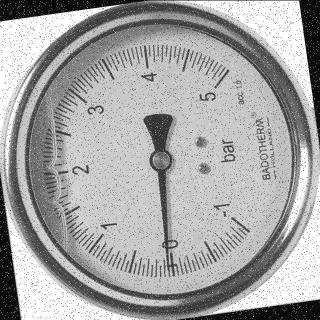gauge: (0, 0, 320, 320), (212, 193, 252, 241), (193, 66, 238, 108), (147, 149, 173, 171), (160, 260, 172, 280)
